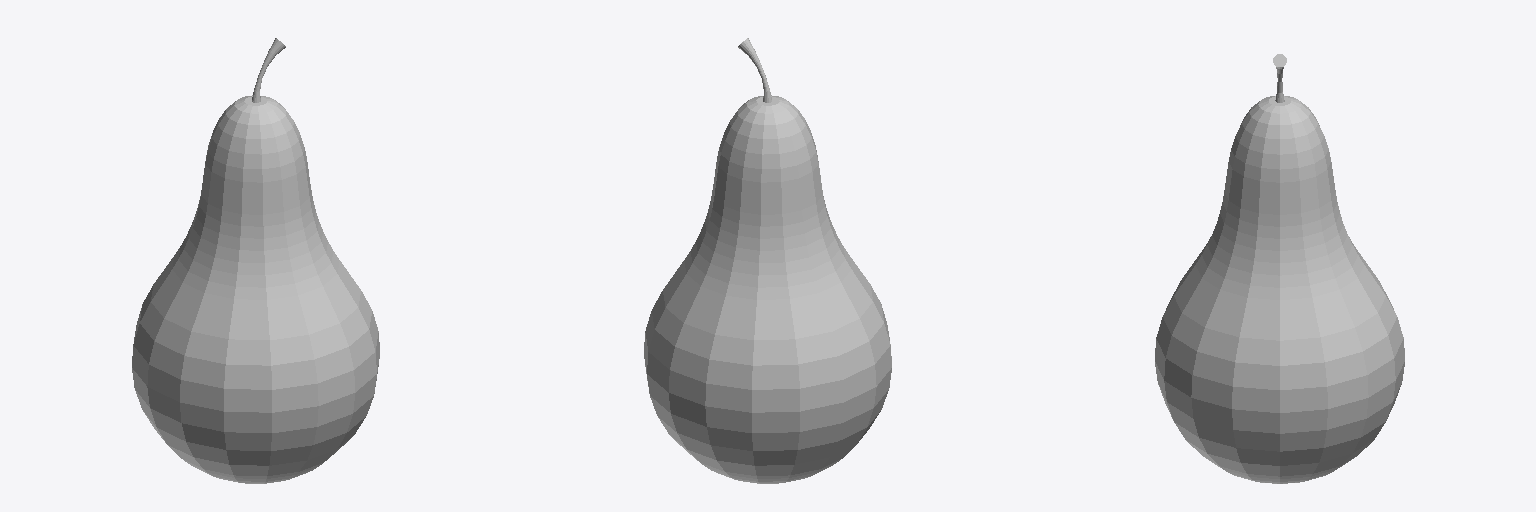
File: pear_obj.obj
3 renders of one model, left to right at view 1: azimuth 30°, elevation 25°; view 2: azimuth 150°, elevation 25°; view 3: azimuth 270°, elevation 25°, orthographic.
Parts seen in each view (by area): view 1: kruska; view 2: kruska; view 3: kruska.
Boxes of the visible parts, box(x1,y1,x2,y2) form: kruska: box(132, 38, 379, 483); kruska: box(644, 38, 891, 483); kruska: box(1155, 54, 1404, 483).
Bounding box in the file's own units: 6.01 × 11.23 × 6.01.